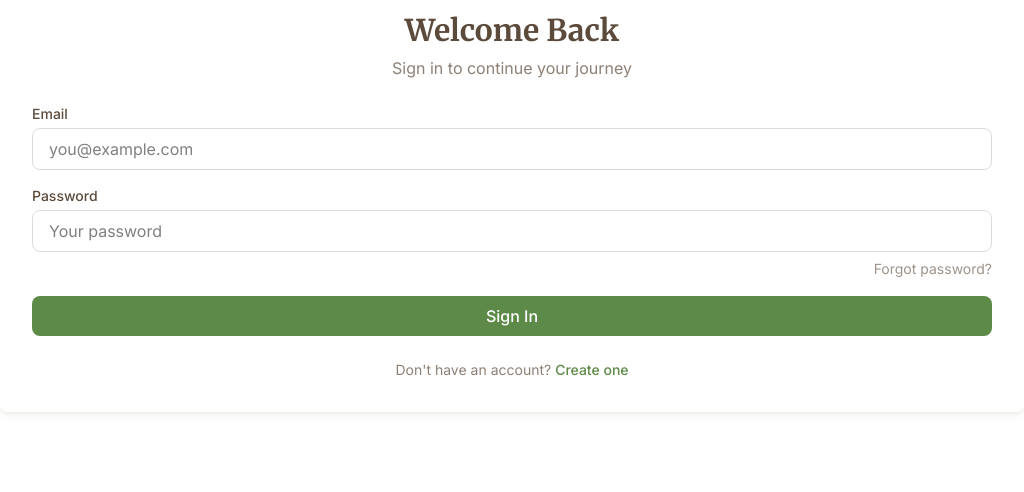
Test: LoginForm › should show error on invalid credentials
Step 1. Type "test@example.com" into the field labelled "Email" → point(512, 149), box [32,128,992,170]
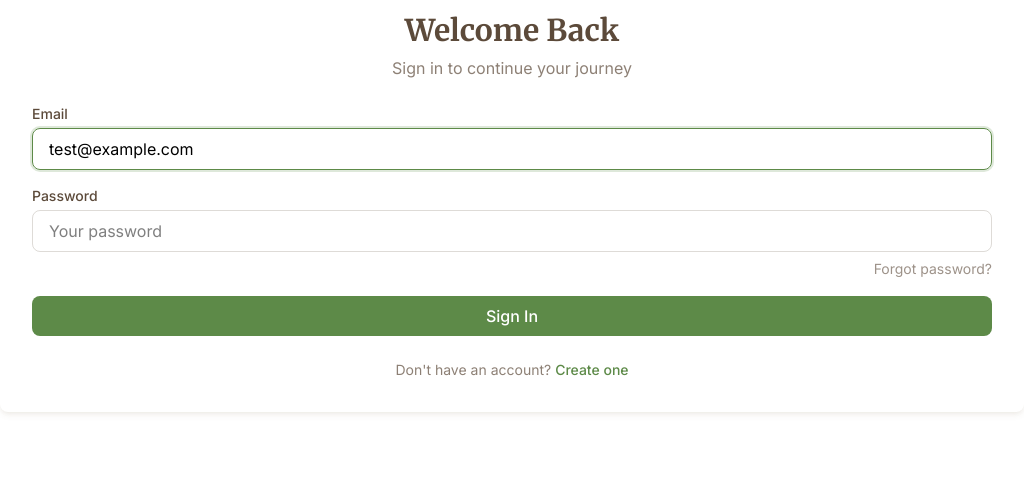
Step 2. Type "wrongpassword" into the password field labelled "Password" → point(512, 231), box [32,210,992,252]
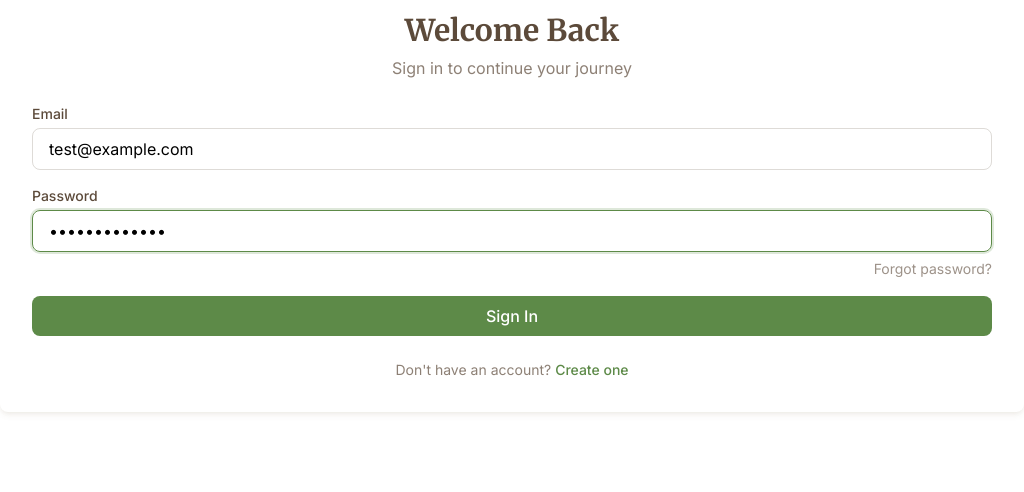
Step 3. Click the button "Sign In" → point(512, 316), box [32,296,992,336]
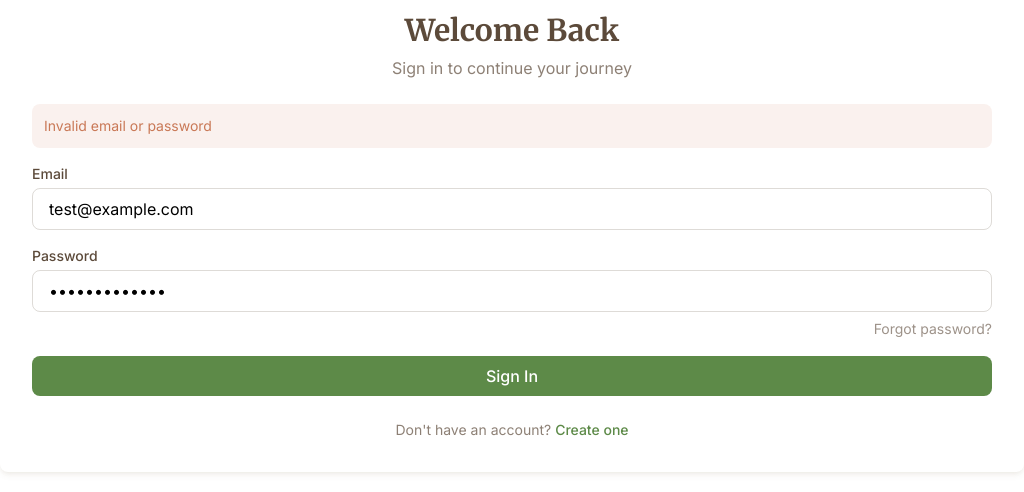
Expected: the text "Invalid email or password" is shown, [32,104,992,148]
